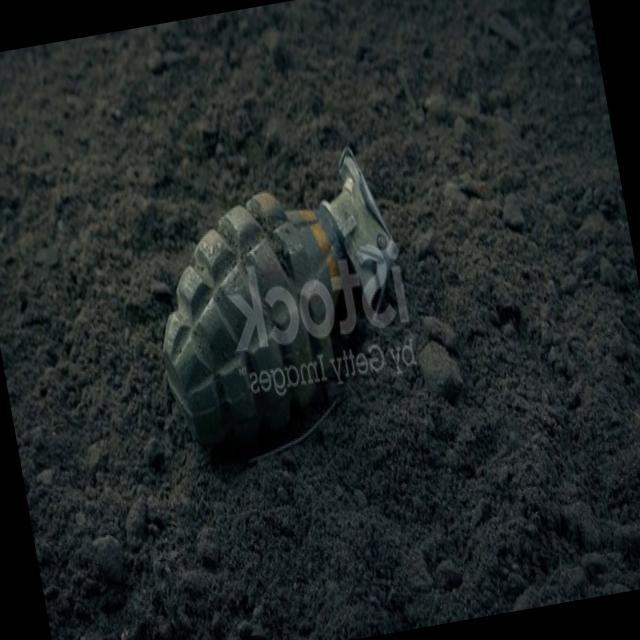grenade: (124, 120, 438, 480)
